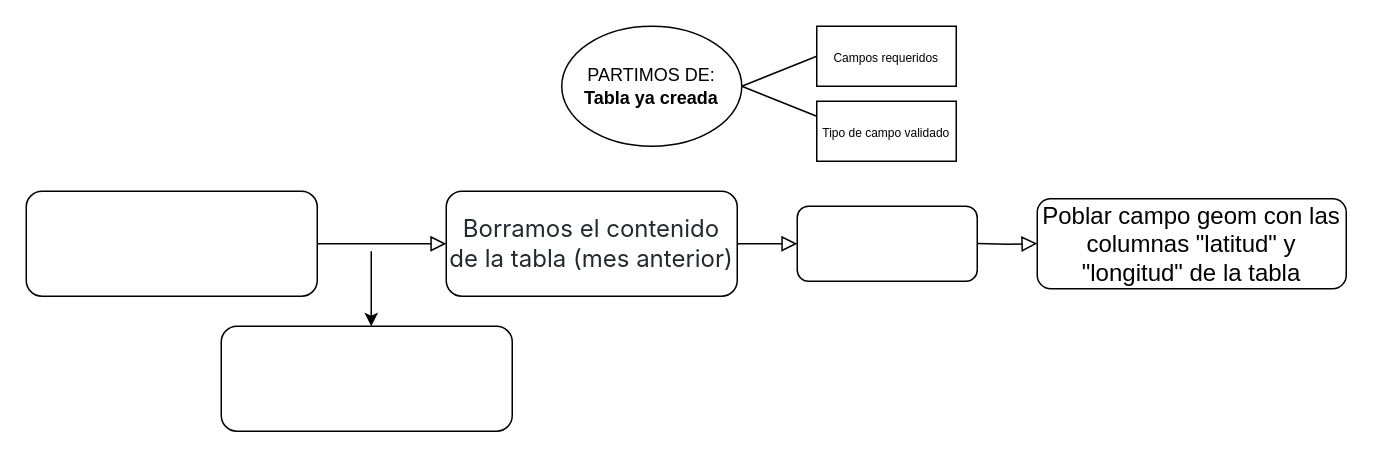
This 1373x458 diagram has some shape labels left out. Here are the shapes that lost their labels. From the top down, the centre of each, then its label:
pixel 171 243: De la API de Vodafone descargar fichero en formato CSV
pixel 886 243: Cargar el fichero CSV a la tabla
pixel 366 378: Borramos los encabezados del CSV (según proceda)
